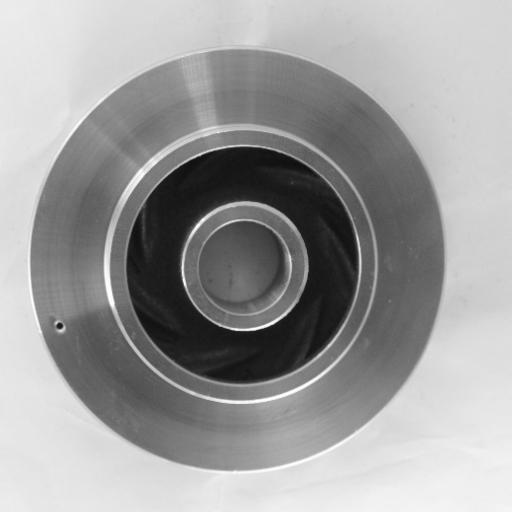pit: (49, 312, 76, 336)
unpolished_casting: (29, 48, 448, 475)
